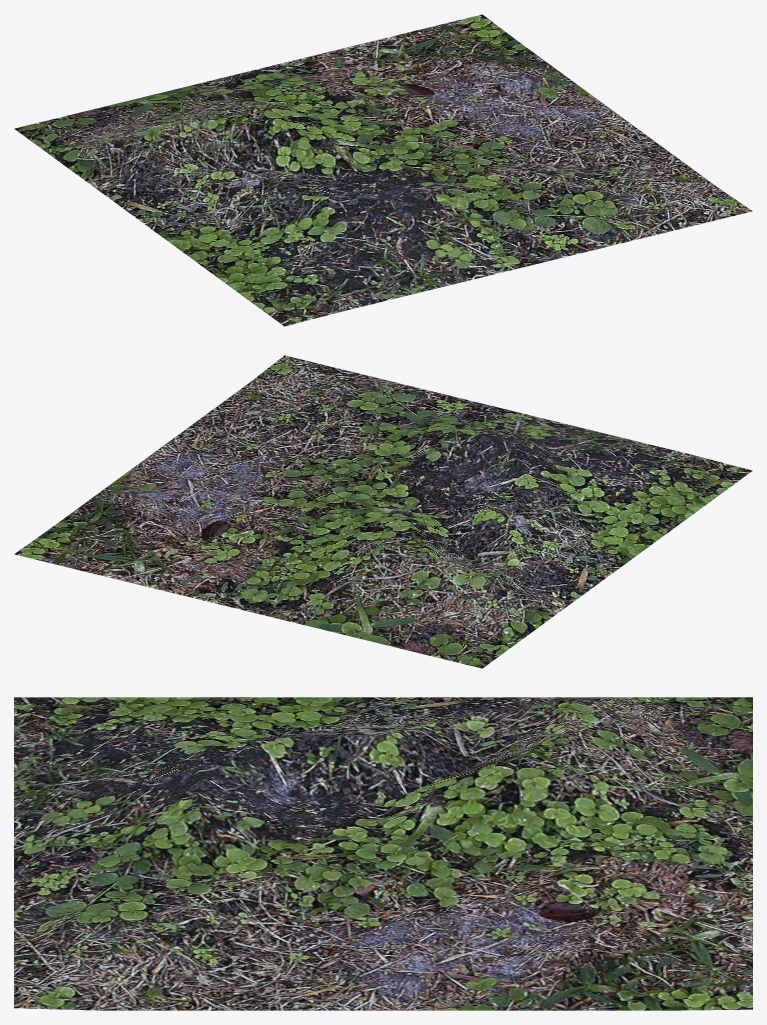
Rendered from Ground.fbx.
3 renders of one model, top to bottom at view 1: azimuth 30°, elevation 25°; view 2: azimuth 150°, elevation 25°; view 3: azimuth 270°, elevation 25°, orthographic. The views are drawn at different scales.
Visible parts, largest first — view 1: Ground; view 2: Ground; view 3: Ground.
Boxes of the visible parts, x1,y1,x2,y2 form: Ground: [14, 14, 752, 326]; Ground: [14, 355, 752, 668]; Ground: [14, 697, 752, 1010].
Bounding box in the file's own units: 200 × 14.45 × 200.
